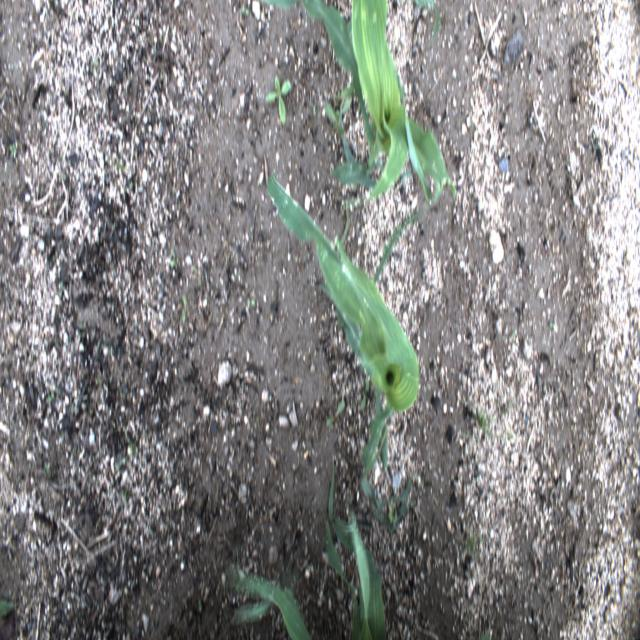crop: (256, 0, 456, 297), (267, 172, 418, 502), (232, 447, 388, 639)
weed: (368, 468, 427, 534), (261, 74, 292, 129), (327, 400, 346, 425), (359, 379, 368, 412)
